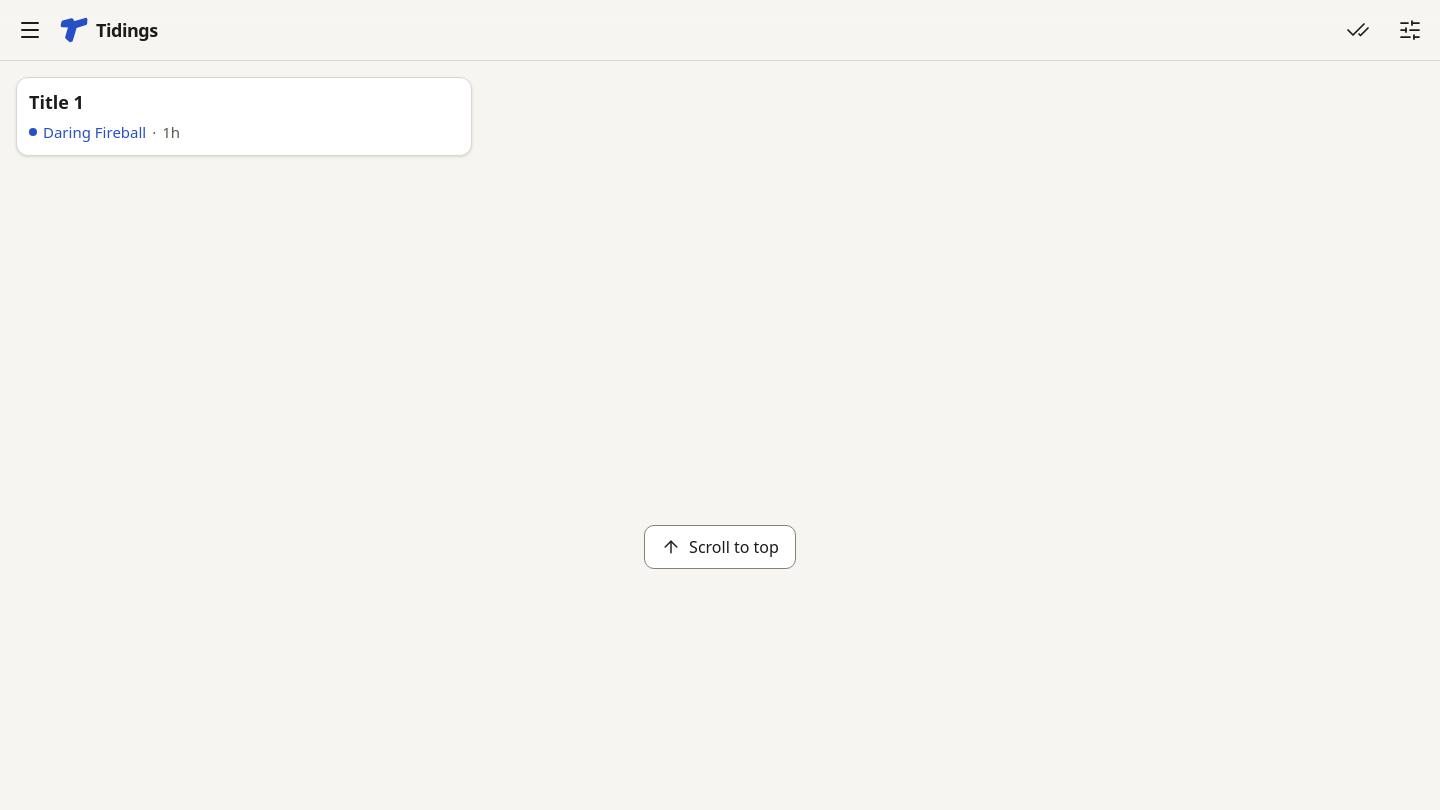
Test: AC3: more than 20 entries › exactly 21 asks (boundary)
Expected: the heading "Title 1" is shown, x1=29 y1=90 x2=84 y2=114
Click the button named "Mark all as read": (1358, 30) x1=1336 y1=8 x2=1380 y2=52
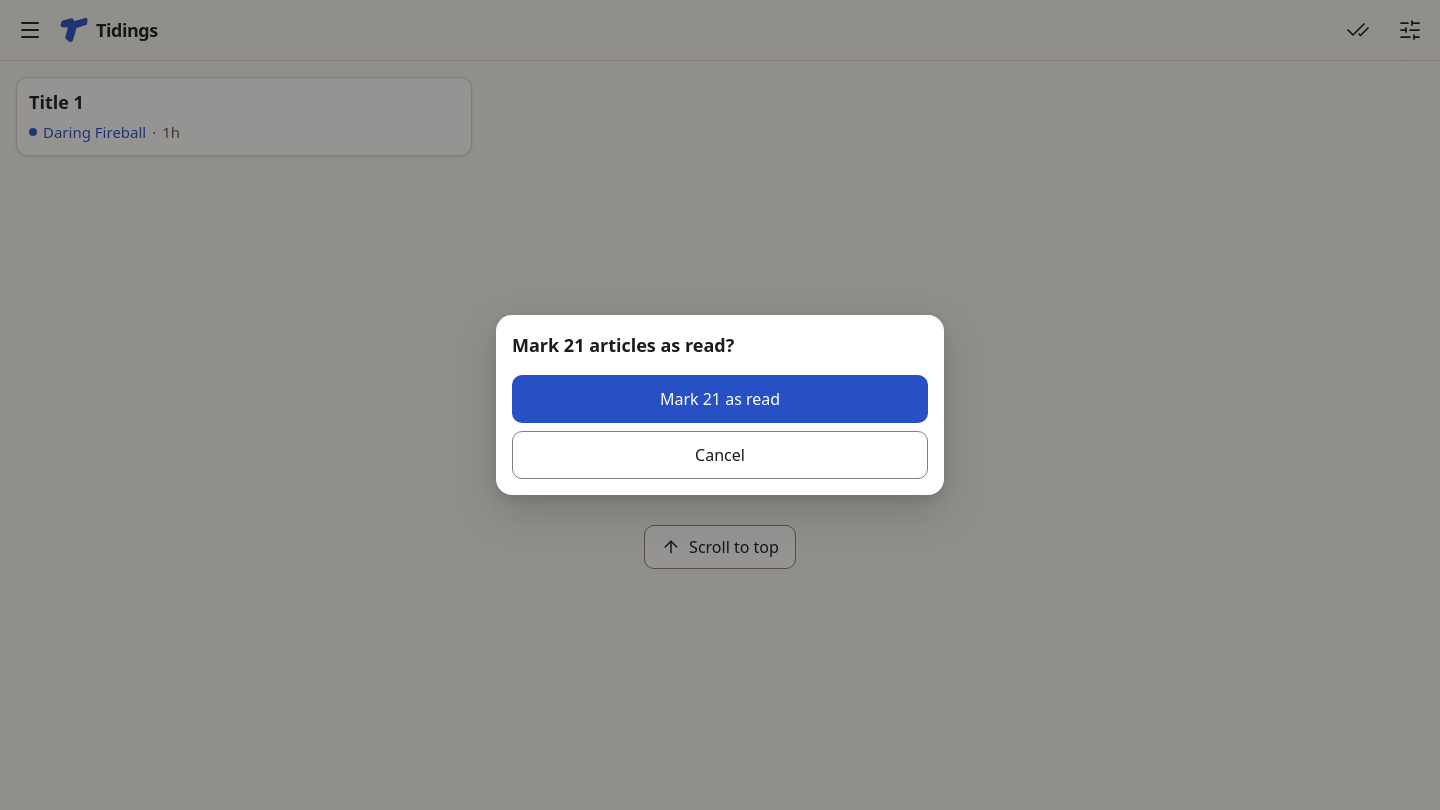
Expected: the dialog "Mark 21 articles as read?" is shown, x1=496 y1=315 x2=944 y2=495
